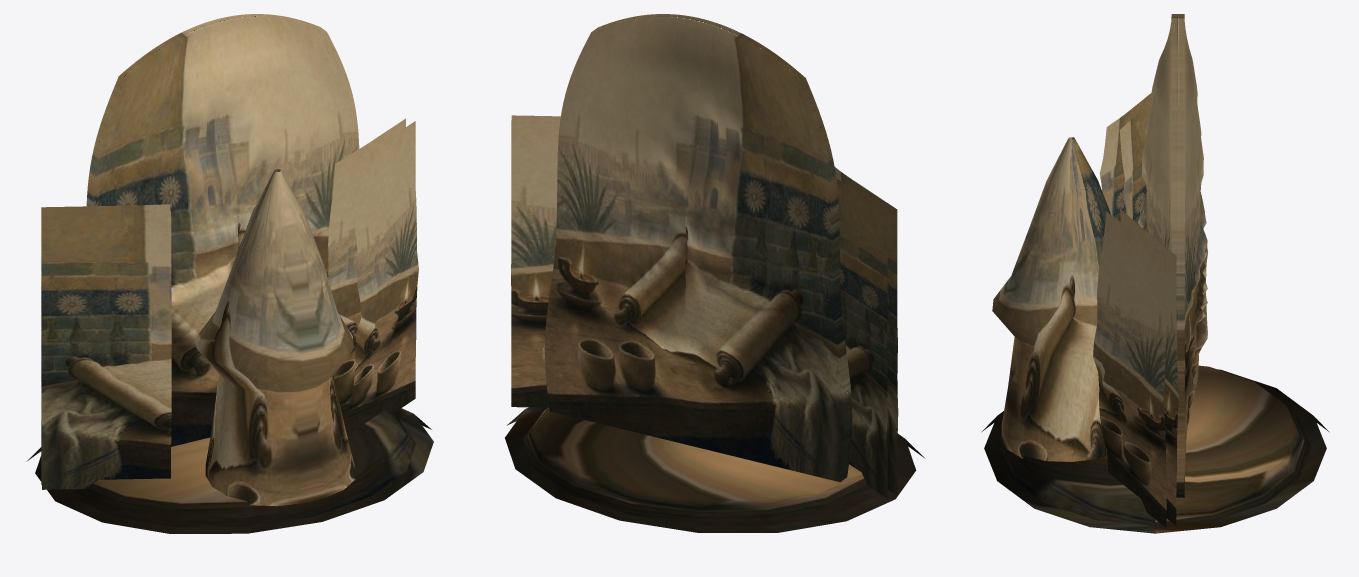
File: the-day-of-small-things-38.glb
3 renders of one model, left to right at view 1: azimuth 30°, elevation 25°; view 2: azimuth 150°, elevation 25°; view 3: azimuth 270°, elevation 25°, orthographic. The views are drawn at different scales.
Parts seen in each view (by area): view 1: PaintingSculptureMonument; view 2: PaintingSculptureMonument; view 3: PaintingSculptureMonument.
Part boxes in pixels (x1=…): PaintingSculptureMonument: x1=26, y1=14, x2=433, y2=533; PaintingSculptureMonument: x1=505, y1=14, x2=925, y2=532; PaintingSculptureMonument: x1=981, y1=14, x2=1329, y2=533.
Bounding box in the file's own units: 2.76 × 2.99 × 2.35.
1 material, 1 textured.
